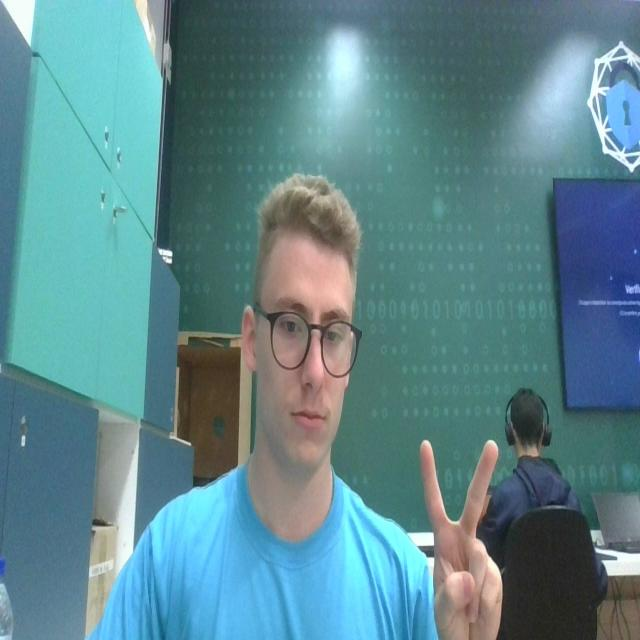V: (409, 413, 510, 640)
